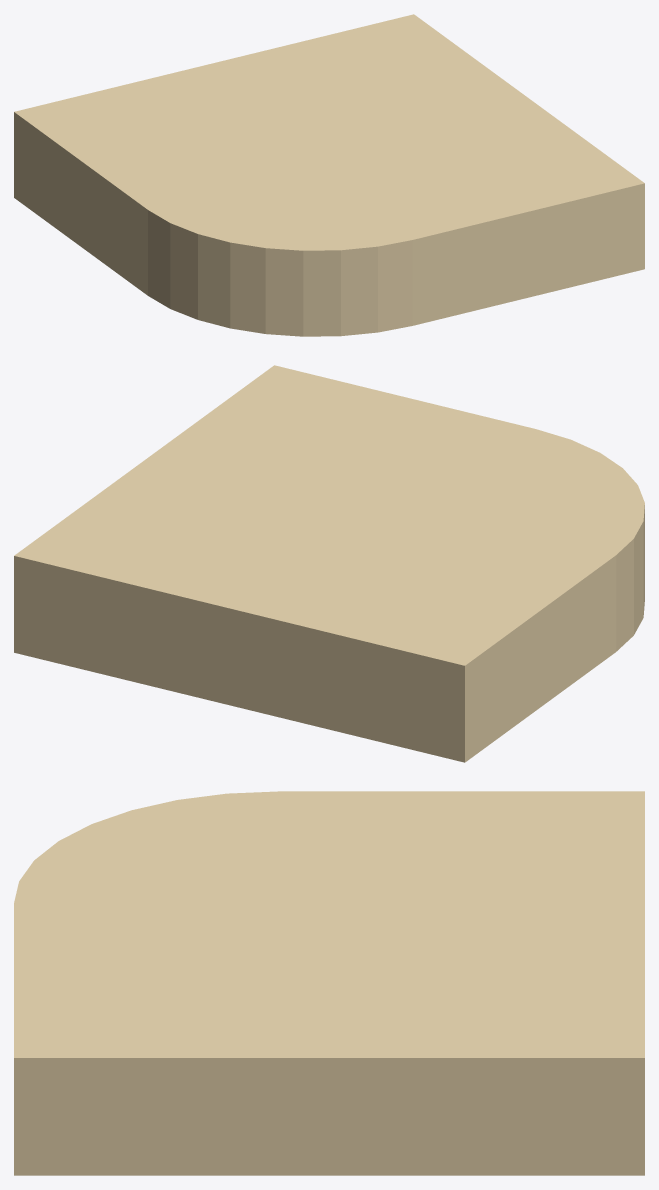
Rendered from kum-köşe.fbx.
3 views of the same model, one above another, from view 1: azimuth 30°, elevation 25°; view 2: azimuth 150°, elevation 25°; view 3: azimuth 270°, elevation 25° (orthographic). The views are drawn at different scales.
Parts seen in each view (by area): view 1: Cube.040; view 2: Cube.040; view 3: Cube.040.
Part boxes in pixels (bbox=[...]): Cube.040: bbox=[14, 14, 644, 336]; Cube.040: bbox=[14, 365, 644, 762]; Cube.040: bbox=[14, 791, 644, 1175].
Bounding box in the file's own units: 200 × 41.06 × 200.
